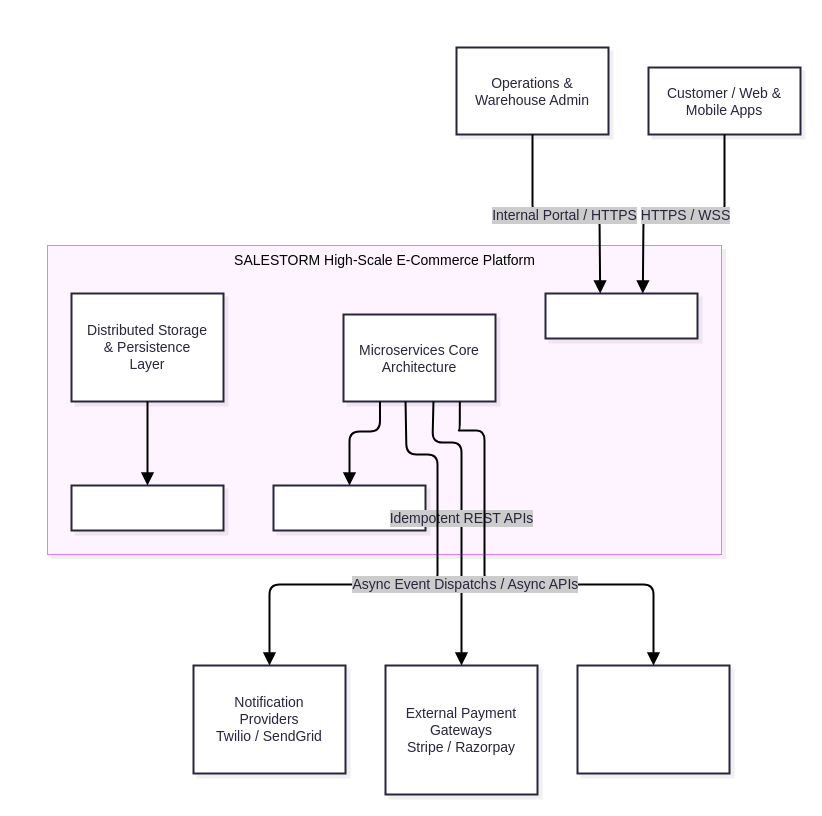
Image size: 822x816. Some labels were removed from this diagram. The shapes that lost their labels are listed below. From the top down, each one's centre as x and y in pixels, then its label:
At [623,317]: "Ingress".
At [149,509]: "Core".
At [351,509]: "Data".
At [655,721]: "Logistics & Shipping APIs Shiprocket / FedEx".
